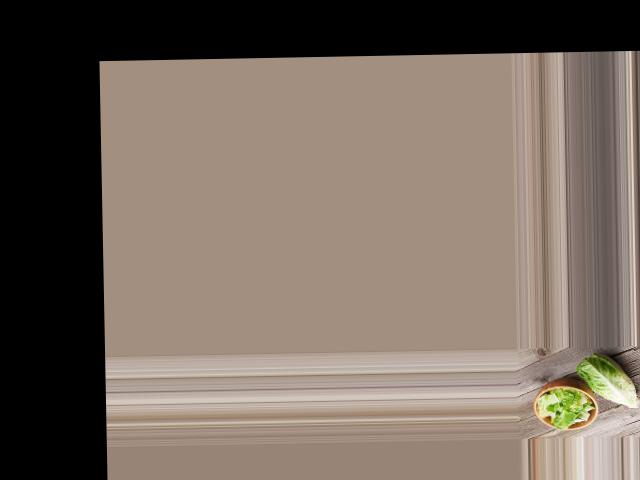lettuce: (577, 351, 638, 409)
